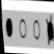correct: (3, 16, 15, 40)
not correct: (44, 14, 54, 49)
